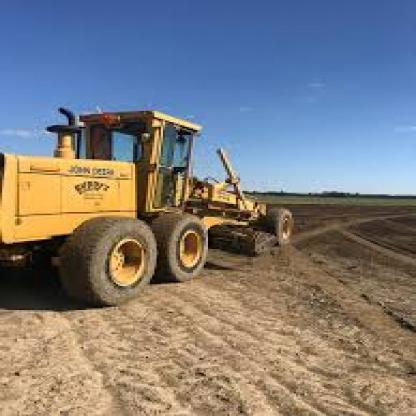bull_dozer/loader/grader: (7, 100, 328, 313)
